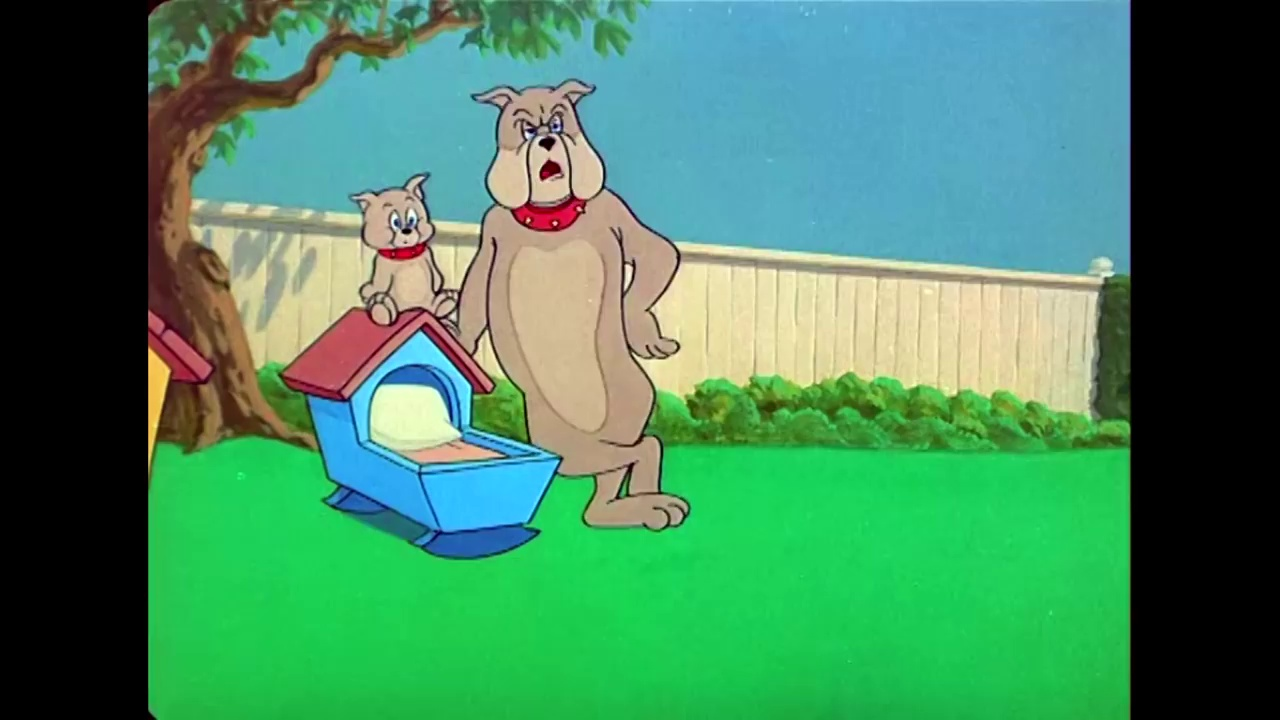spike: (468, 77, 615, 237)
